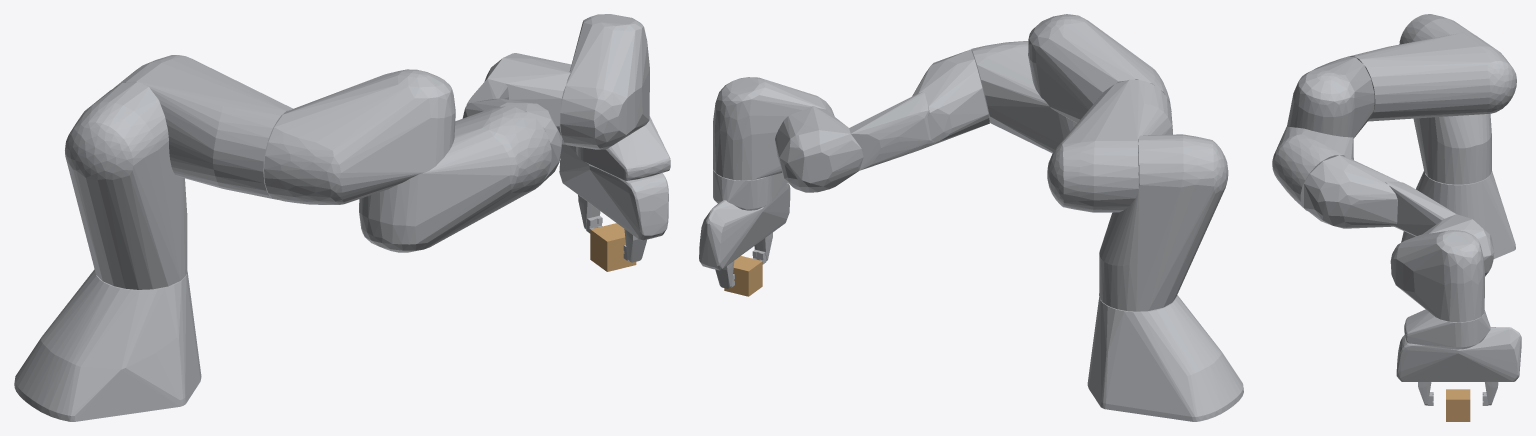
Rendered from franka_grasp.glb.
3 renders of one model, left to right at view 1: azimuth 30°, elevation 25°; view 2: azimuth 150°, elevation 25°; view 3: azimuth 270°, elevation 25°, orthographic. The views are drawn at different scales.
Size of the model in its own units: 0.8479 by 0.4311 by 0.4078.
